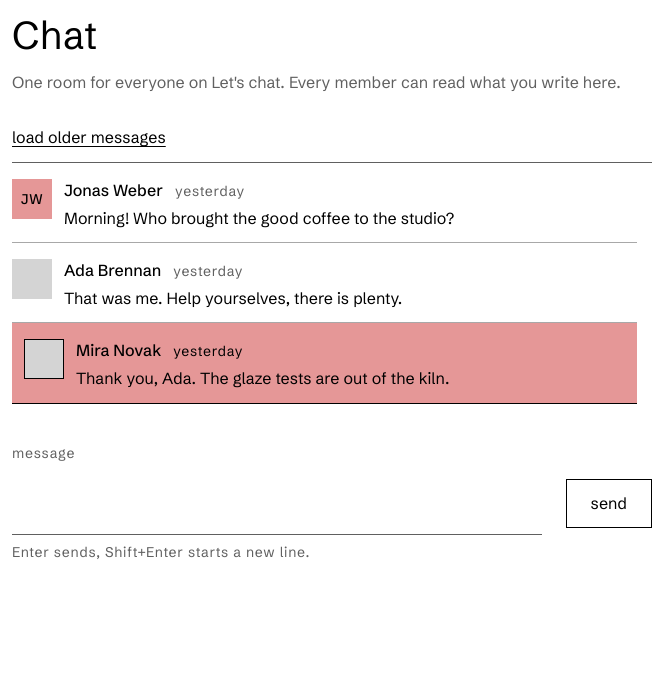
Test: ChatPage › F-82: "load older messages" loads the previous page with the cursor and adds it on top
This screenshot has width=669, height=678.
Click the button "load older messages".
click(89, 138)  # box [12,126,166,150]
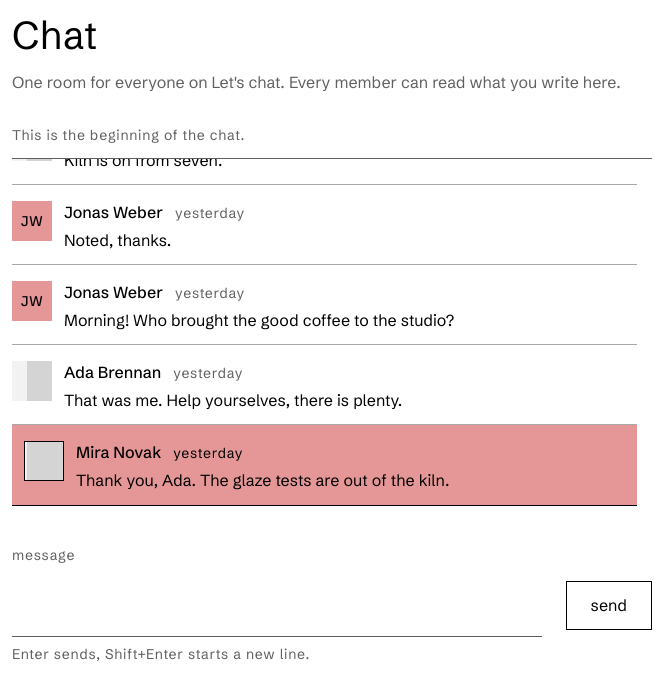
expect the button "load older messages" is gone: met
expect the text "This is the beginning of the chat." is shown: met, box [12,126,245,144]
